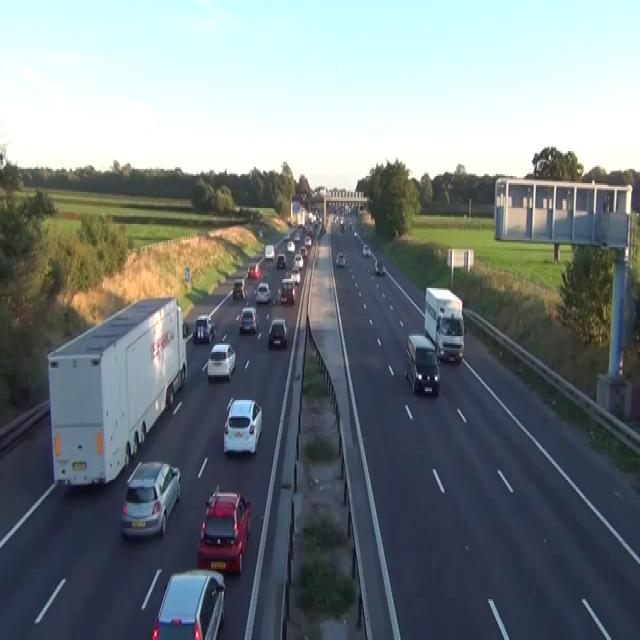Car: (151, 567, 225, 638), (120, 461, 181, 538), (197, 486, 250, 574), (223, 397, 262, 455), (436, 309, 464, 363), (207, 343, 235, 381), (192, 315, 215, 343), (268, 316, 287, 348), (238, 306, 259, 334), (278, 277, 295, 304), (254, 281, 270, 302), (232, 279, 246, 299), (247, 263, 260, 279), (277, 284, 287, 304), (374, 258, 384, 276), (290, 266, 300, 284), (264, 243, 274, 260), (335, 250, 345, 266), (276, 252, 286, 268), (293, 252, 303, 268), (299, 245, 307, 258), (182, 322, 188, 339), (286, 240, 295, 251), (362, 244, 370, 256), (293, 231, 300, 242), (304, 235, 311, 245), (306, 226, 313, 236), (339, 222, 345, 231), (344, 204, 350, 213), (283, 233, 289, 240), (332, 215, 338, 222), (258, 228, 262, 238), (322, 226, 327, 233), (349, 222, 353, 230), (353, 230, 356, 237)
Truck: (46, 295, 187, 487), (424, 286, 464, 363), (404, 332, 440, 397)
